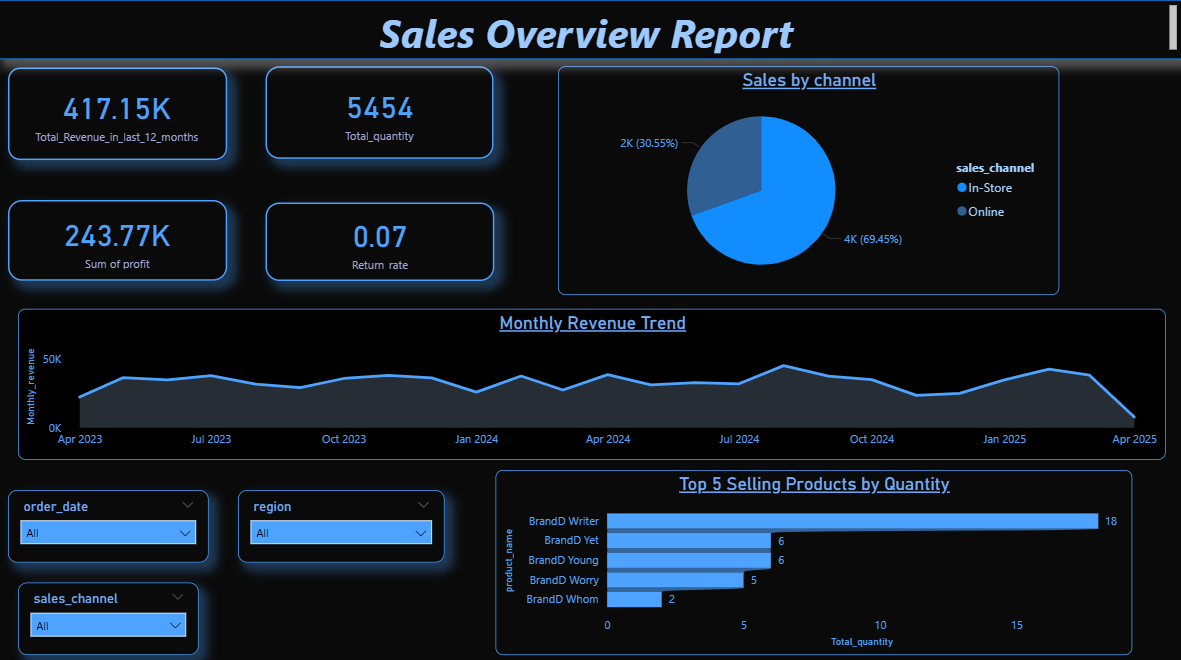

The page's visual inventory and layout, read from the dashboard file:
{"tool":"powerbi","page":{"name":"Sales Overview","canvas":[1280,720],"ordinal":0},"visuals":[{"type":"pieChart","title":"Sales by channel","fields":{"Category":["sales_cleaned.sales_channel"],"Y":["sales_cleaned.Total_quantity"]},"box":[604.4,71.2,541.7,247.3],"z":0},{"type":"slicer","fields":{"Values":["sales_cleaned.sales_channel"]},"box":[21.7,629.8,195.4,78.4],"z":1000},{"type":"barChart","title":"Top 5 Selling Products by Quantity","fields":{"Category":["products_cleaned.product_name"],"Y":["sales_cleaned.Total_quantity"]},"box":[536.9,507.9,687.7,200.3],"z":2000},{"type":"slicer","fields":{"Values":["customers_cleaned.region"]},"box":[259.4,529.6,223.2,78.4],"z":3000},{"type":"slicer","fields":{"Values":["sales_cleaned.order_date"]},"box":[10.9,529.6,217.2,78.4],"z":4000},{"type":"card","fields":{"Values":["sales_cleaned.Total_quantity"]},"box":[289.5,71.2,246.1,100.1],"z":5000},{"type":"card","fields":{"Values":["Sum(sales_cleaned.profit)"]},"box":[10.9,216,236.5,86.9],"z":6000},{"type":"card","fields":{"Values":["sales_cleaned.Return_rate"]},"box":[289.5,218.4,247.3,84.5],"z":7000},{"type":"lineChart","title":"Monthly Revenue Trend","fields":{"Y":["sales_cleaned.Monthly_revenue"],"Category":["sales_cleaned.order_date.Variation.Date Hierarchy.Year","sales_cleaned.order_date.Variation.Date Hierarchy.Month"]},"box":[21.7,334.2,1240.2,162.9],"z":8000},{"type":"card","fields":{"Values":["sales_cleaned.Total_Revenue_in_last_12_months"]},"box":[10.9,72.4,236.5,100.1],"z":9000},{"type":"textbox","box":[0,0,1280,63.9],"z":10000}]}

Visuals, with their boxes in screenshot pixels (x1, y1, x2, y2), scaled from the page's 1280x720 canvas onto the 1181x660 screenshot:
"Sales by channel" pieChart: pyautogui.locateOnScreen(558, 65, 1057, 292)
slicer - sales_cleaned.sales_channel: pyautogui.locateOnScreen(20, 577, 200, 649)
"Top 5 Selling Products by Quantity" barChart: pyautogui.locateOnScreen(495, 466, 1130, 649)
slicer - customers_cleaned.region: pyautogui.locateOnScreen(239, 485, 445, 557)
slicer - sales_cleaned.order_date: pyautogui.locateOnScreen(10, 485, 210, 557)
card - sales_cleaned.Total_quantity: pyautogui.locateOnScreen(267, 65, 494, 157)
card - Sum(sales_cleaned.profit): pyautogui.locateOnScreen(10, 198, 228, 278)
card - sales_cleaned.Return_rate: pyautogui.locateOnScreen(267, 200, 495, 278)
"Monthly Revenue Trend" lineChart: pyautogui.locateOnScreen(20, 306, 1164, 456)
card - sales_cleaned.Total_Revenue_in_last_12_months: pyautogui.locateOnScreen(10, 66, 228, 158)
textbox: pyautogui.locateOnScreen(0, 0, 1180, 59)
